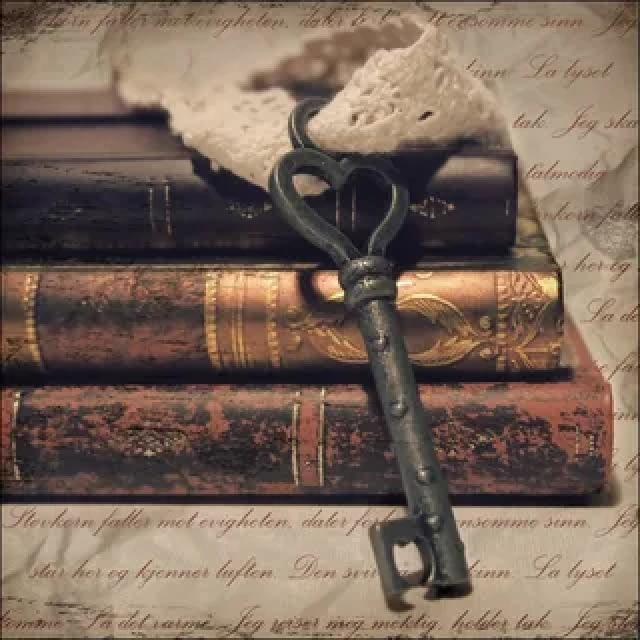key: (256, 124, 496, 612)
